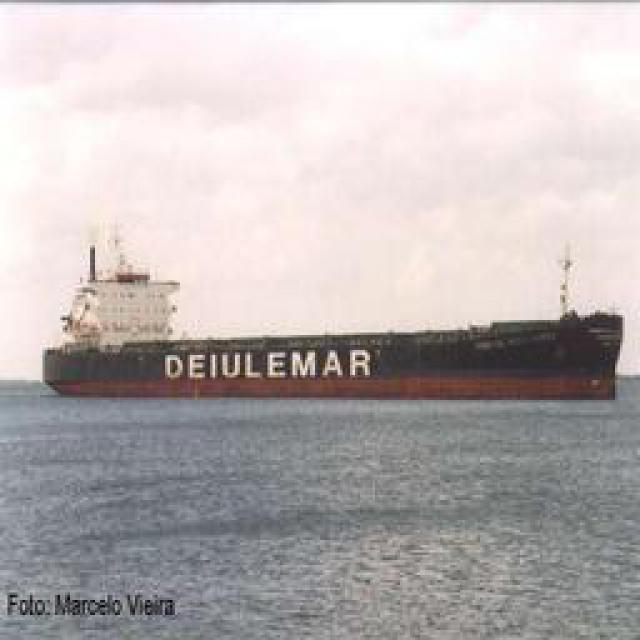Ship: (47, 282, 620, 402)
